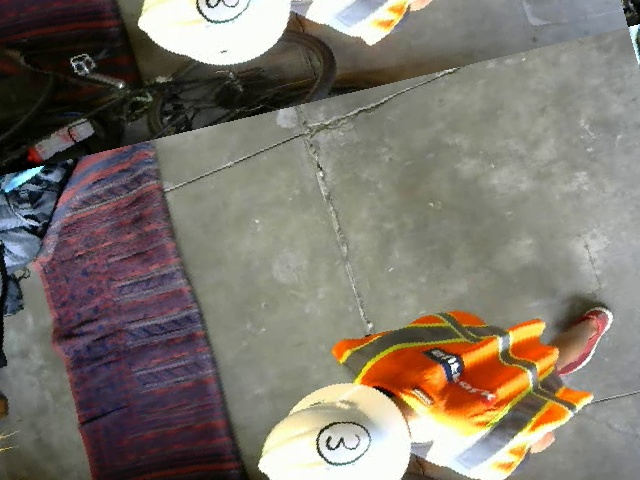three: (309, 415, 375, 471)
